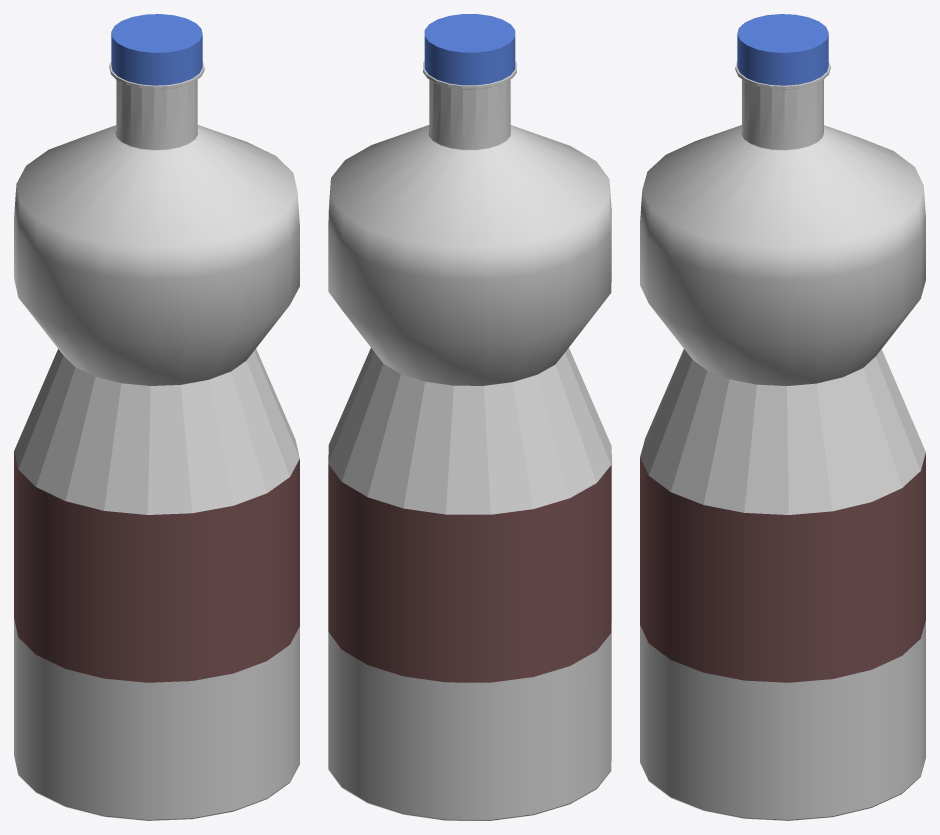
File: Bottle_1.fbx
3 renders of one model, left to right at view 1: azimuth 30°, elevation 25°; view 2: azimuth 150°, elevation 25°; view 3: azimuth 270°, elevation 25°, orthographic.
Parts seen in each view (by area): view 1: cap; view 2: cap; view 3: cap.
Part boxes in pixels (left/top/right/bottom): cap: left=14, top=14, right=299, bottom=820; cap: left=328, top=14, right=611, bottom=820; cap: left=640, top=14, right=925, bottom=820.
Bounding box in the file's own units: 0.3518 × 0.9869 × 0.3518.
